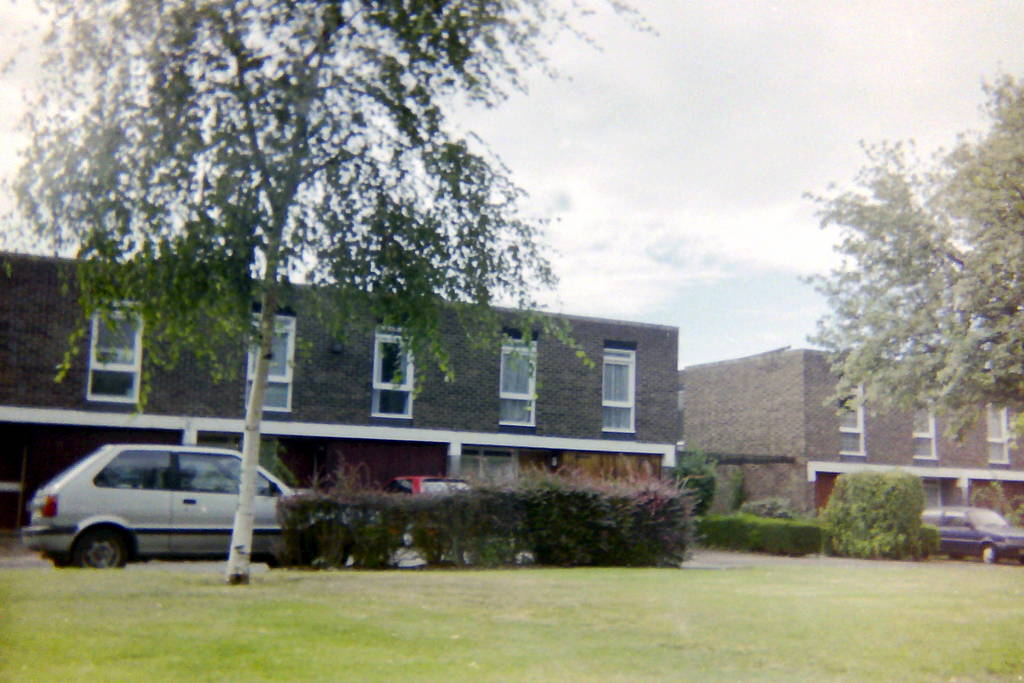Car: (22, 440, 330, 574), (378, 475, 479, 545), (913, 502, 1022, 561)
